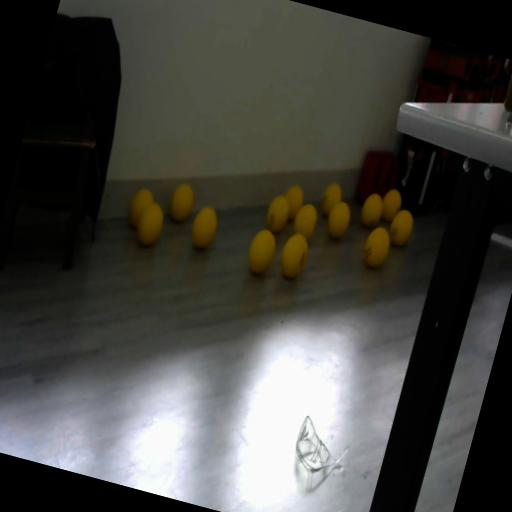FUEL: (243, 226, 280, 277), (276, 229, 312, 281), (358, 222, 395, 270), (186, 204, 221, 252), (124, 184, 158, 232), (288, 199, 322, 242), (166, 180, 198, 224), (322, 198, 354, 240), (385, 206, 416, 248), (356, 190, 386, 230), (278, 182, 306, 223), (377, 186, 405, 224), (320, 180, 344, 206)
